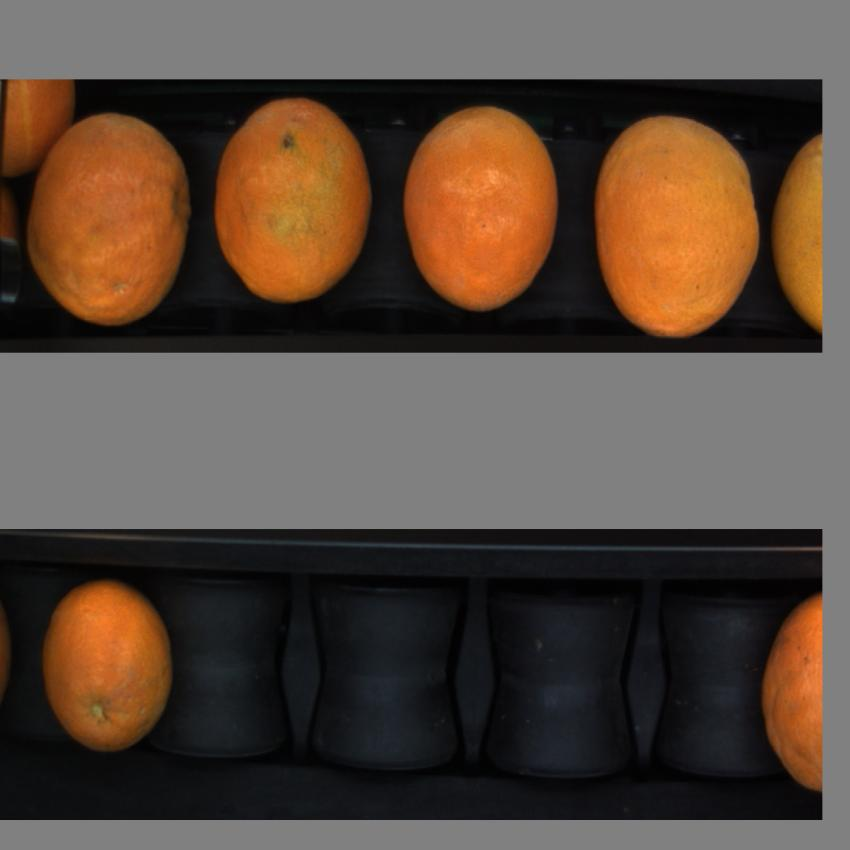Buen estado: (588, 110, 765, 340), (399, 96, 563, 317), (211, 91, 376, 307), (38, 578, 176, 765), (759, 583, 822, 799), (769, 131, 823, 336)
Mal estado: (22, 110, 196, 328)
